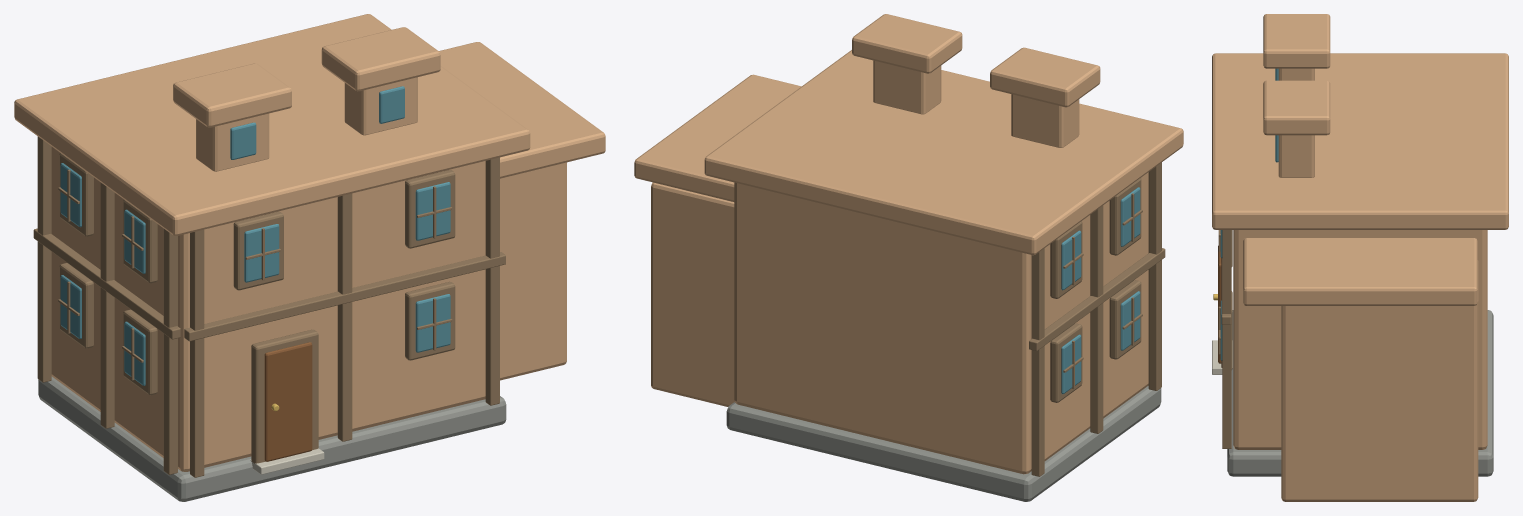
Rendered from arid-townhouse-1.glb.
3 renders of one model, left to right at view 1: azimuth 30°, elevation 25°; view 2: azimuth 150°, elevation 25°; view 3: azimuth 270°, elevation 25°, orthographic. The views are drawn at different scales.
Visible parts, largest first — view 1: Adobe cream, Palm beams, Foundation stone, Blue glass, Door oak, Cut limestone; view 2: Adobe cream, Palm beams, Foundation stone, Blue glass; view 3: Adobe cream, Foundation stone, Palm beams, Blue glass.
Boxes of the visible parts, left/top/right/bottom form: Adobe cream: left=14, top=14, right=605, bottom=471; Palm beams: left=33, top=136, right=505, bottom=477; Foundation stone: left=38, top=376, right=506, bottom=501; Blue glass: left=60, top=86, right=450, bottom=385; Door oak: left=264, top=342, right=312, bottom=461; Cut limestone: left=250, top=448, right=324, bottom=474; Adobe cream: left=634, top=14, right=1183, bottom=474; Palm beams: left=1029, top=162, right=1165, bottom=476; Foundation stone: left=726, top=386, right=1161, bottom=501; Blue glass: left=1061, top=187, right=1140, bottom=394; Adobe cream: left=1212, top=14, right=1508, bottom=501; Foundation stone: left=1227, top=310, right=1493, bottom=476; Palm beams: left=1218, top=230, right=1232, bottom=448; Blue glass: left=1220, top=68, right=1278, bottom=360.
Bounding box in the file's own units: 4.96 × 3.91 × 3.09.
